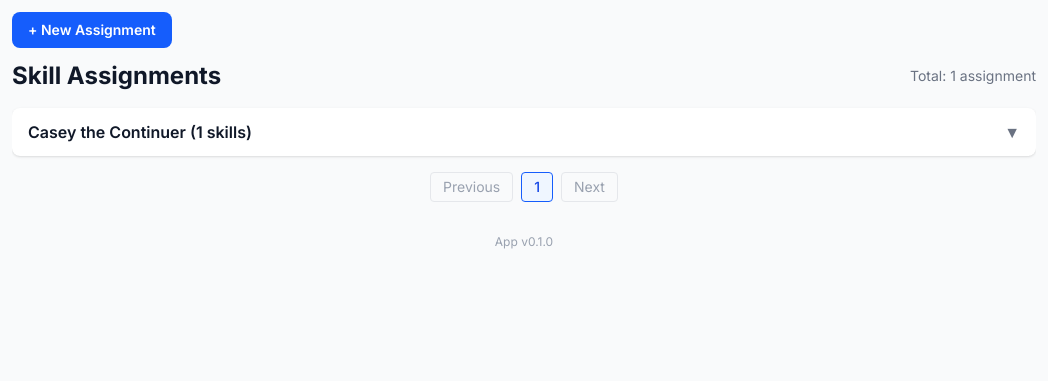
Scenario: DashboardPage › renders assignment grid when data loads
Click the button "Casey the Continuer (1 skills) ▼": (107, 132) [12,108,1036,156]
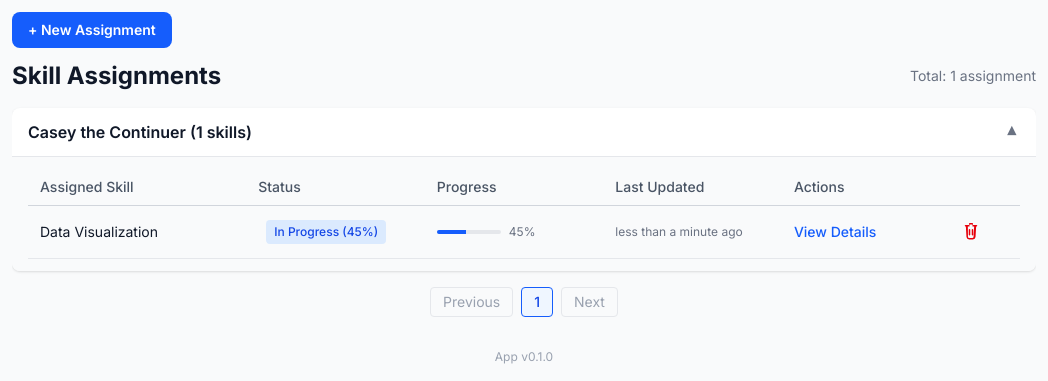
Check: the text "Data Visualization" is shown, box [28,206,246,258]
